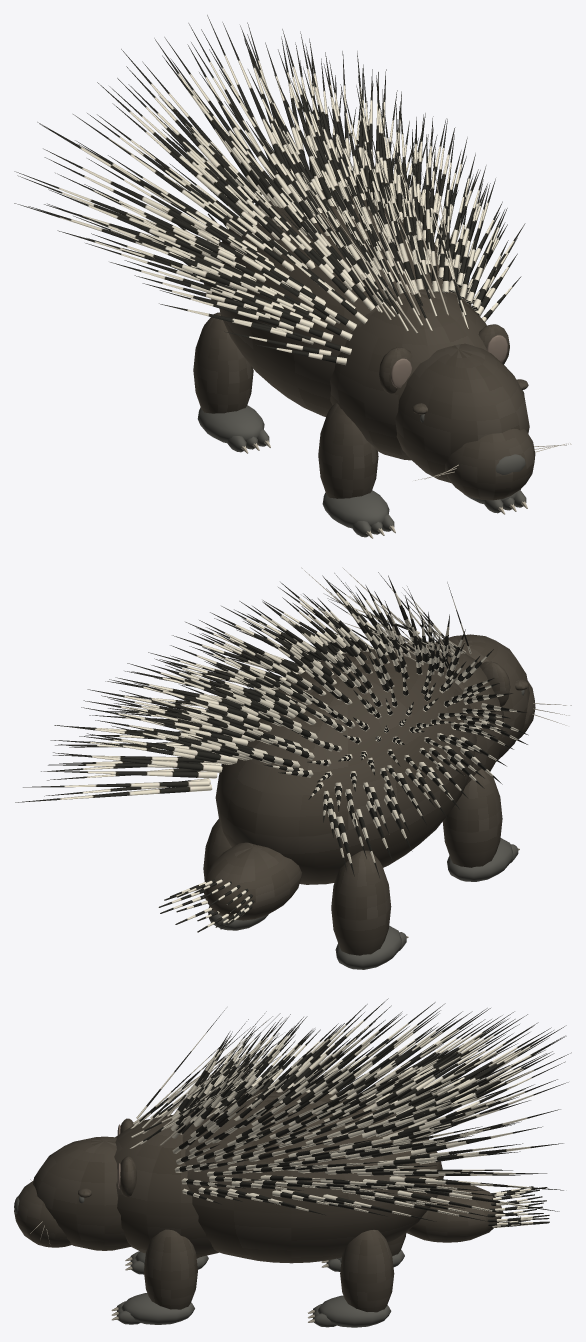
Rendered from cape-porcupine.glb.
The picture shows the model from 3 angles, top to bottom: view 1: azimuth 30°, elevation 25°; view 2: azimuth 150°, elevation 25°; view 3: azimuth 270°, elevation 25°; orthographic projection. The views are drawn at different scales.
Visible parts, largest first — view 1: Cape porcupine, +Z forward; view 2: Cape porcupine, +Z forward; view 3: Cape porcupine, +Z forward.
Part boxes in pixels (left/top/right/bottom): Cape porcupine, +Z forward: left=14, top=15, right=571, bottom=538; Cape porcupine, +Z forward: left=15, top=567, right=571, bottom=969; Cape porcupine, +Z forward: left=14, top=998, right=571, bottom=1327.
Bounding box in the file's own units: 1.15 × 0.9826 × 1.79.
Materials: 5 (5 with a texture image).
